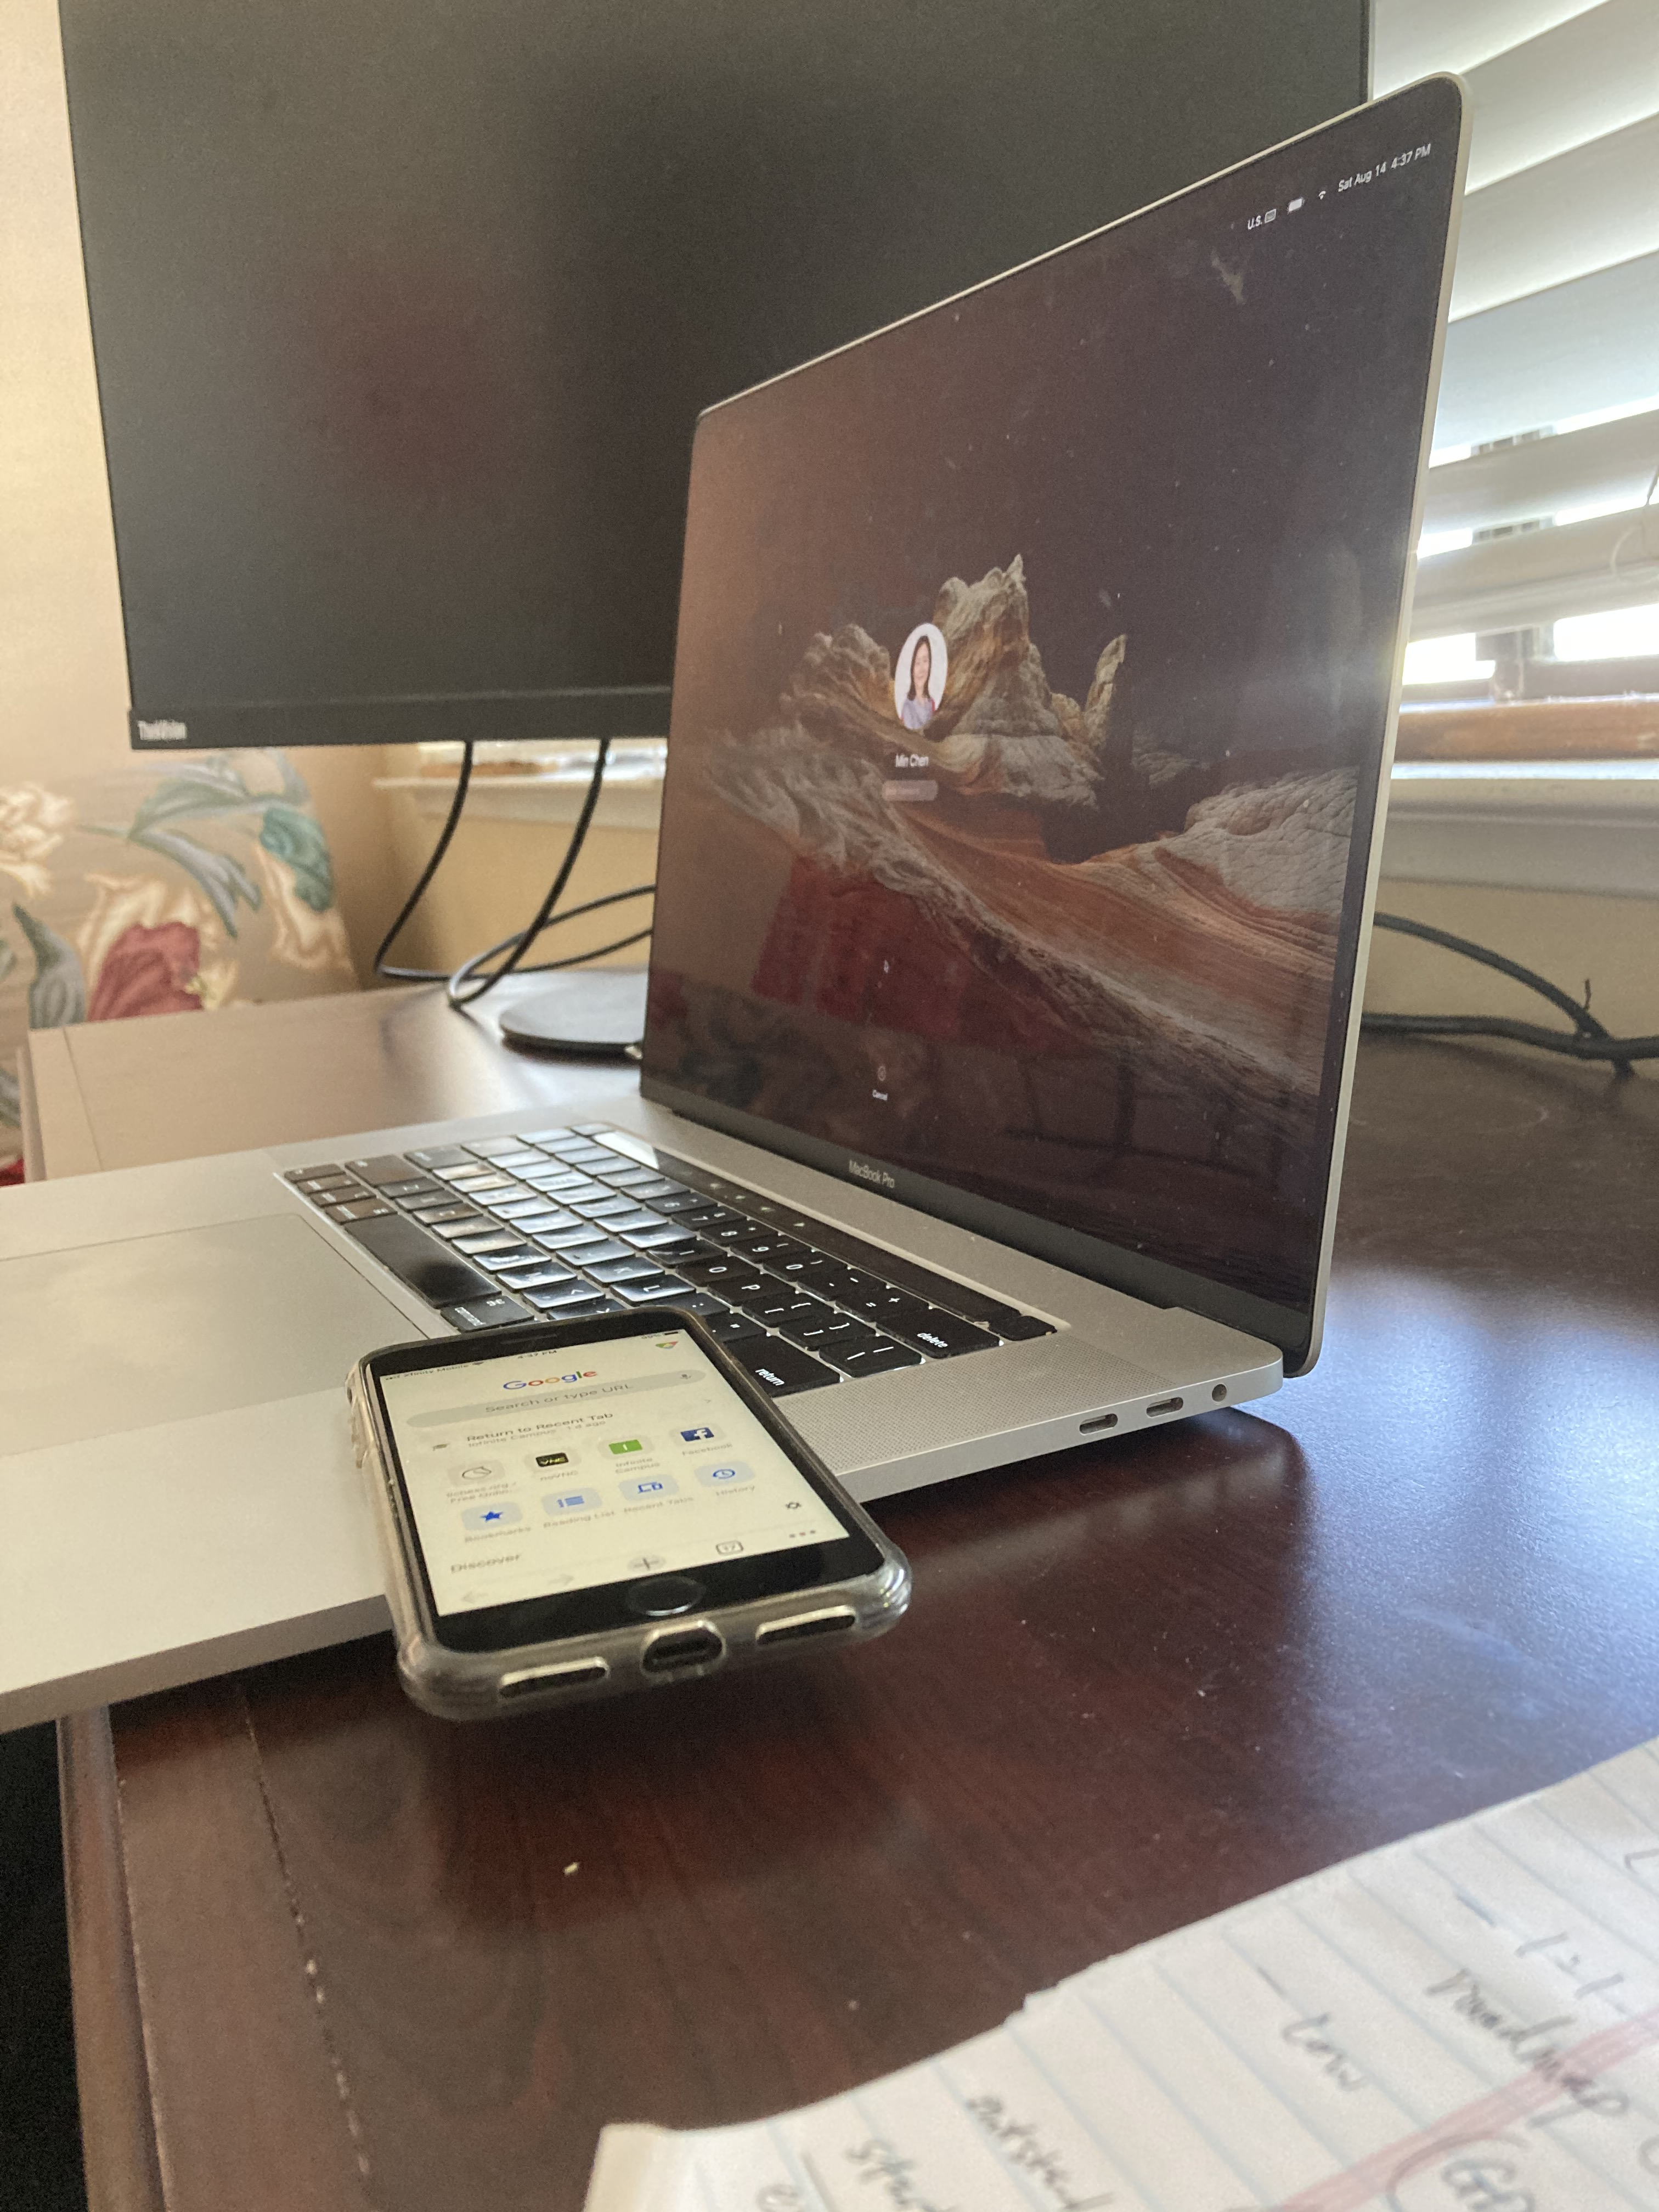Cell Phone: (350, 1318, 910, 1707)
